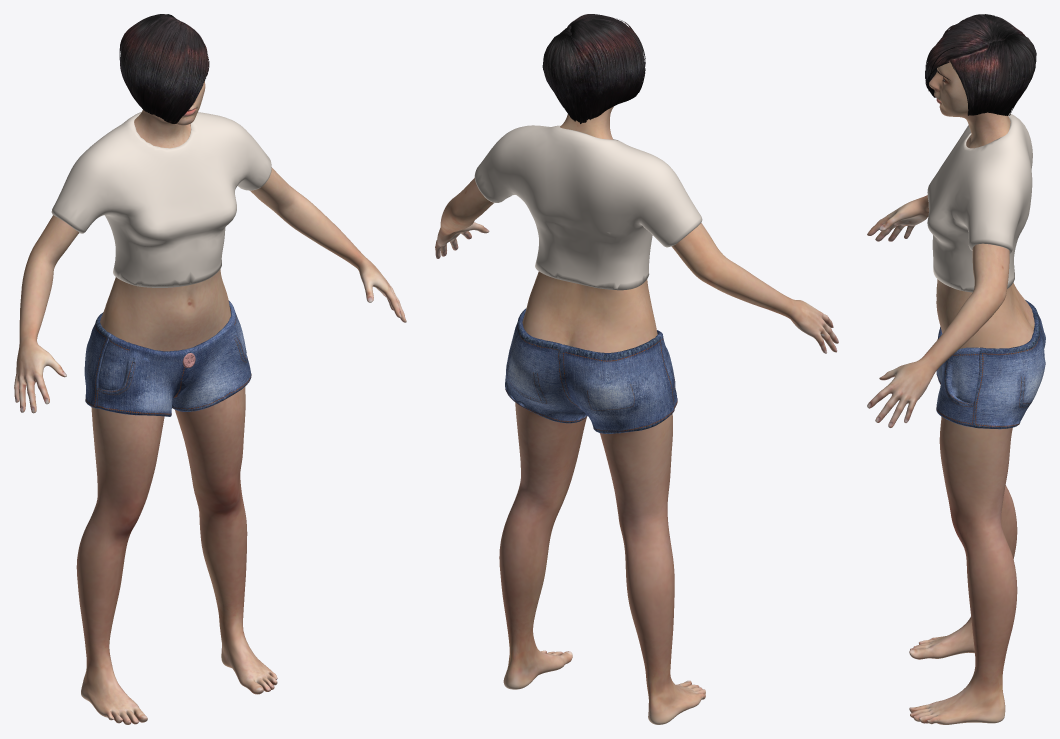
Rendered from female-pale-shorts-croptop.glb.
3 views of the same model, side by side, from view 1: azimuth 30°, elevation 25°; view 2: azimuth 150°, elevation 25°; view 3: azimuth 270°, elevation 25° (orthographic). The views are drawn at different scales.
Parts seen in each view (by area): view 1: Body, CropTop, Shorts, Hair; view 2: Body, CropTop, Shorts, Hair; view 3: Body, CropTop, Shorts, Hair.
Boxes of the visible parts, <box> form: Body: <box>14,81,406,724</box>; CropTop: <box>51,112,271,287</box>; Shorts: <box>84,300,251,416</box>; Hair: <box>119,14,209,123</box>; Body: <box>435,106,838,724</box>; CropTop: <box>474,125,702,290</box>; Shorts: <box>505,308,677,433</box>; Hair: <box>542,14,645,123</box>; Body: <box>867,62,1034,724</box>; CropTop: <box>927,113,1032,292</box>; Shorts: <box>936,300,1045,429</box>; Hair: <box>925,14,1036,115</box>.
Size of the model in its own units: 1 by 1.66 by 0.4034.
8 materials, 7 textured.
